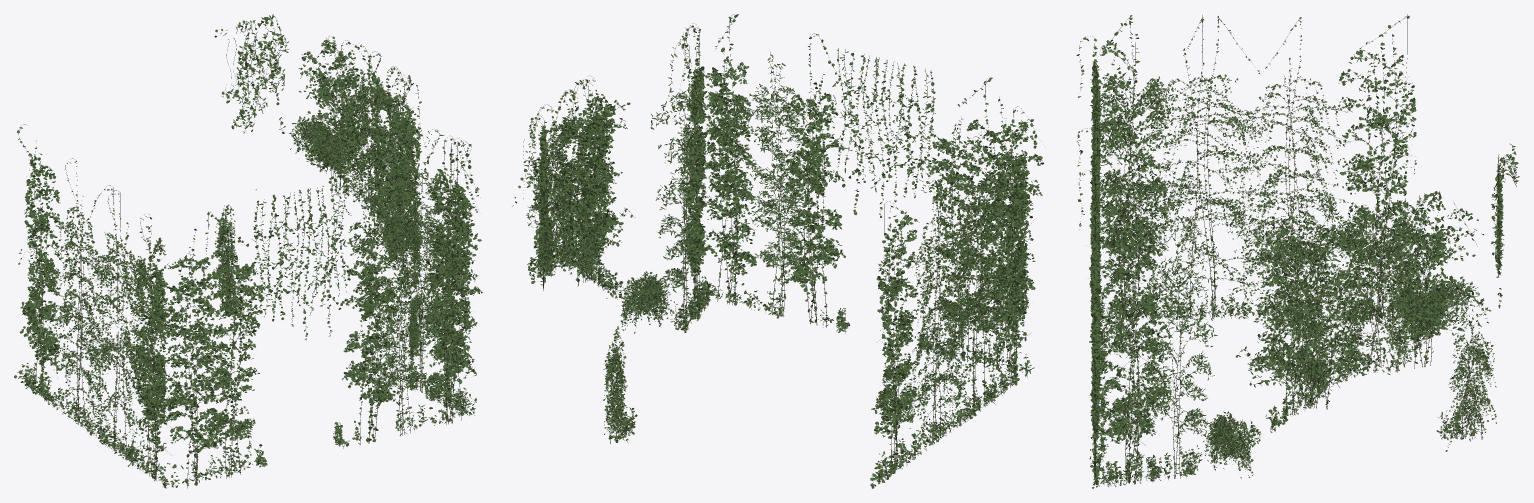
File: garden.glb
3 views of the same model, side by side, from view 1: azimuth 30°, elevation 25°; view 2: azimuth 150°, elevation 25°; view 3: azimuth 270°, elevation 25° (orthographic). The views are drawn at different scales.
Visible parts, largest first — view 1: Entry_Wall_Leaves(-2, -5, 1), Entry_Wall_Leaves(1, -5, 1), Rooted_Ivy_Leaves(2, -2, 2), Rooted_Ivy_Leaves(2, -1, 2), Entry_Wall_Leaves(-2, -5, 2), Entry_Wall_Leaves(1, -5, 2), Rooted_Ivy_Leaves(2, -3, 2), Entry_Wall_Leaves(2, -5, 1), Rooted_Ivy_Leaves(-3, -5, 1), Entry_Wall_Leaves(2, -5, 2), Entry_Wall_Leaves(-1, -5, 2), Entry_Wall_Leaves(0, -5, 2) (+30 smaller); view 2: Entry_Wall_Leaves(1, -5, 1), Rooted_Ivy_Leaves(2, -3, 2), Entry_Wall_Leaves(1, -5, 2), Entry_Wall_Leaves(2, -5, 1), Rooted_Ivy_Leaves(2, -4, 0), Rooted_Ivy_Leaves(-3, -5, 1), Rooted_Ivy_Leaves(2, -3, 1), Entry_Wall_Leaves(2, -5, 2), Entry_Wall_Leaves(-2, -5, 2), Entry_Wall_Leaves(-1, -5, 2), Entry_Wall_Leaves(-2, -5, 1), Rooted_Ivy_Leaves(-3, -5, 2) (+27 smaller); view 3: Rooted_Ivy_Leaves(2, -3, 2), Rooted_Ivy_Leaves(2, -2, 2), Rooted_Ivy_Leaves(2, -3, 1), Rooted_Ivy_Leaves(-3, -5, 1), Rooted_Ivy_Leaves(2, -5, 1), Rooted_Ivy_Leaves(2, -5, 2), Rooted_Ivy_Leaves(-3, -5, 2), Rooted_Ivy_Leaves(2, -1, 2), Rooted_Ivy_Leaves(2, -5, 0), Rooted_Ivy_Leaves(-3, -2, 1), Rooted_Ivy_Leaves(2, -4, 0), Rooted_Ivy_Leaves(-3, -4, 1) (+34 smaller).
Part boxes in pixels (x1=…): Entry_Wall_Leaves(-2, -5, 1): x1=172, y1=322, x2=239, y2=417; Entry_Wall_Leaves(1, -5, 1): x1=364, y1=277, x2=431, y2=370; Rooted_Ivy_Leaves(2, -2, 2): x1=329, y1=74, x2=386, y2=179; Rooted_Ivy_Leaves(2, -1, 2): x1=251, y1=56, x2=340, y2=156; Entry_Wall_Leaves(-2, -5, 2): x1=172, y1=247, x2=239, y2=336; Entry_Wall_Leaves(1, -5, 2): x1=365, y1=197, x2=431, y2=289; Rooted_Ivy_Leaves(2, -3, 2): x1=381, y1=100, x2=420, y2=204; Entry_Wall_Leaves(2, -5, 1): x1=428, y1=263, x2=482, y2=353; Rooted_Ivy_Leaves(-3, -5, 1): x1=131, y1=314, x2=167, y2=416; Entry_Wall_Leaves(2, -5, 2): x1=429, y1=188, x2=481, y2=272; Entry_Wall_Leaves(-1, -5, 2): x1=236, y1=223, x2=303, y2=320; Entry_Wall_Leaves(0, -5, 2): x1=300, y1=211, x2=367, y2=303; Entry_Wall_Leaves(1, -5, 1): x1=749, y1=150, x2=820, y2=248; Rooted_Ivy_Leaves(2, -3, 2): x1=571, y1=105, x2=616, y2=213; Entry_Wall_Leaves(1, -5, 2): x1=749, y1=67, x2=820, y2=164; Entry_Wall_Leaves(2, -5, 1): x1=703, y1=135, x2=752, y2=232; Rooted_Ivy_Leaves(2, -4, 0): x1=611, y1=253, x2=691, y2=333; Rooted_Ivy_Leaves(-3, -5, 1): x1=990, y1=217, x2=1030, y2=324; Rooted_Ivy_Leaves(2, -3, 1): x1=570, y1=191, x2=618, y2=284; Entry_Wall_Leaves(2, -5, 2): x1=699, y1=56, x2=752, y2=146; Entry_Wall_Leaves(-2, -5, 2): x1=953, y1=118, x2=1023, y2=210; Entry_Wall_Leaves(-1, -5, 2): x1=885, y1=96, x2=955, y2=195; Entry_Wall_Leaves(-2, -5, 1): x1=952, y1=196, x2=1023, y2=296; Rooted_Ivy_Leaves(-3, -5, 2): x1=991, y1=134, x2=1036, y2=239; Rooted_Ivy_Leaves(2, -3, 2): x1=1255, y1=234, x2=1340, y2=328; Rooted_Ivy_Leaves(2, -2, 2): x1=1338, y1=229, x2=1424, y2=328; Rooted_Ivy_Leaves(2, -3, 1): x1=1254, y1=325, x2=1340, y2=419; Rooted_Ivy_Leaves(-3, -5, 1): x1=1100, y1=147, x2=1172, y2=240; Rooted_Ivy_Leaves(2, -5, 1): x1=1096, y1=309, x2=1172, y2=407; Rooted_Ivy_Leaves(2, -5, 2): x1=1097, y1=218, x2=1172, y2=316; Rooted_Ivy_Leaves(-3, -5, 2): x1=1100, y1=50, x2=1171, y2=148; Rooted_Ivy_Leaves(2, -1, 2): x1=1422, y1=204, x2=1504, y2=322; Rooted_Ivy_Leaves(2, -5, 0): x1=1089, y1=399, x2=1173, y2=488; Rooted_Ivy_Leaves(-3, -2, 1): x1=1339, y1=146, x2=1422, y2=240; Rooted_Ivy_Leaves(2, -4, 0): x1=1170, y1=398, x2=1255, y2=478; Rooted_Ivy_Leaves(-3, -4, 1): x1=1171, y1=147, x2=1255, y2=239.
Size of the model in its own units: 13.94 by 10.39 by 13.21.
5 materials, 4 textured.
